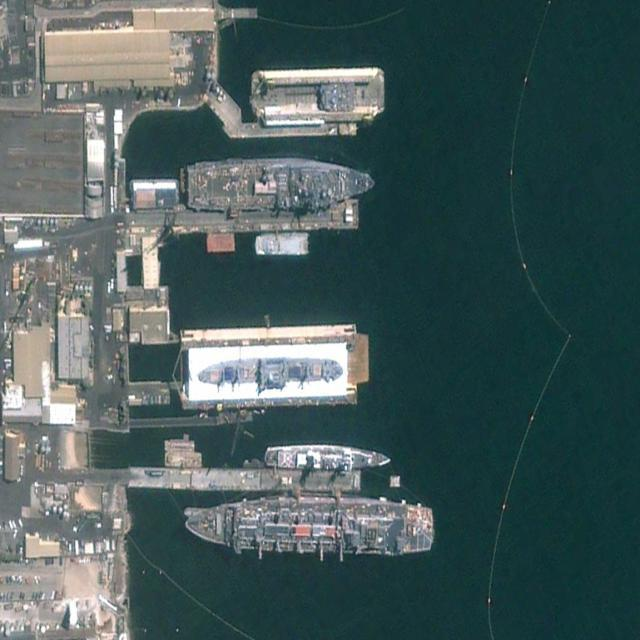Commander: (184, 489, 434, 559)
Landing: (186, 156, 374, 210)
Other Ship: (264, 442, 391, 473)
